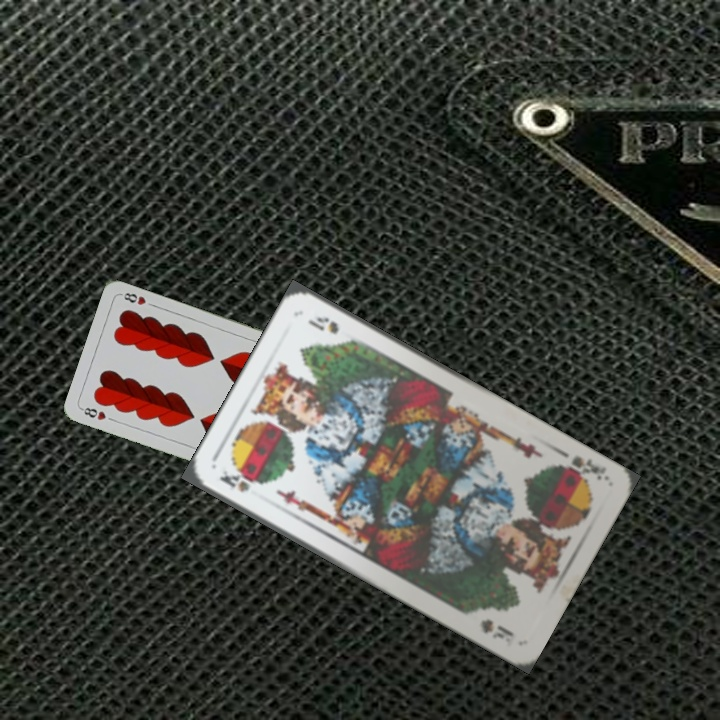H8: (78, 403, 108, 423)
SK: (554, 451, 610, 484), (215, 466, 258, 495)
